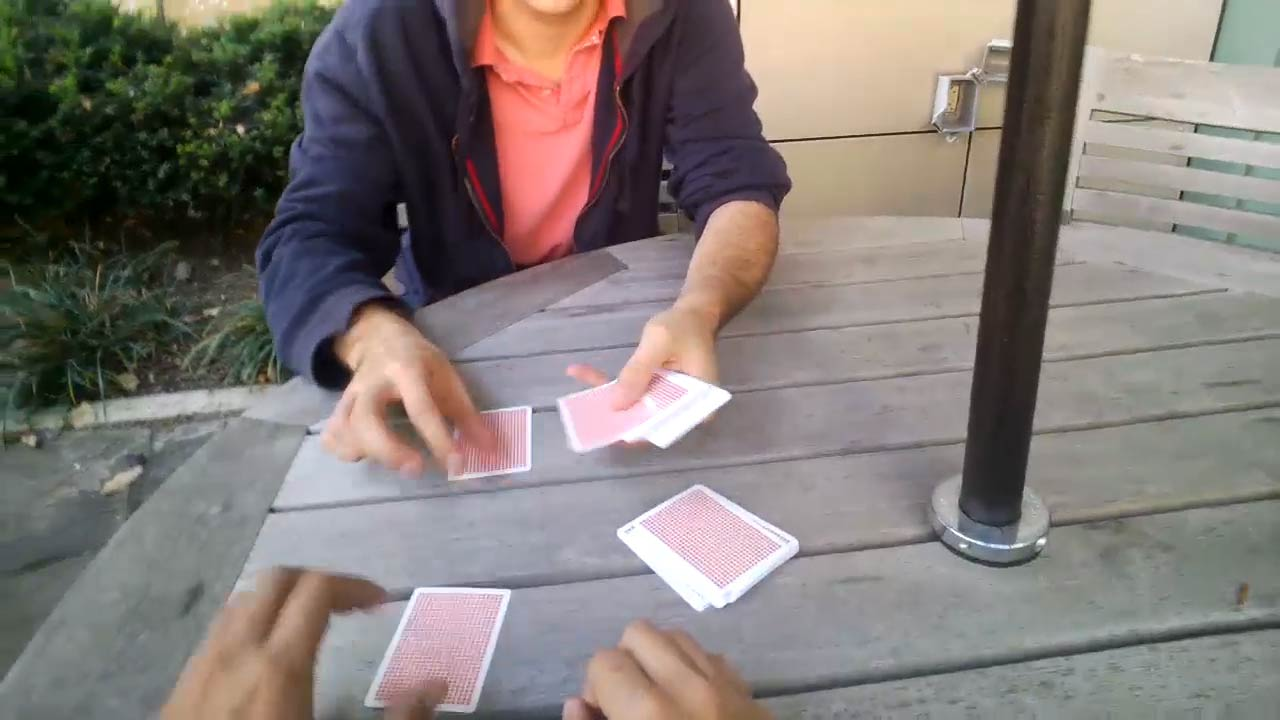hand: (165, 571, 447, 717), (326, 331, 497, 471), (567, 624, 760, 717), (576, 303, 723, 403)
